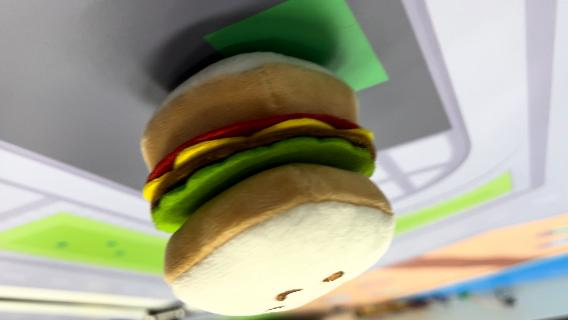sandwich: (138, 49, 398, 315)
